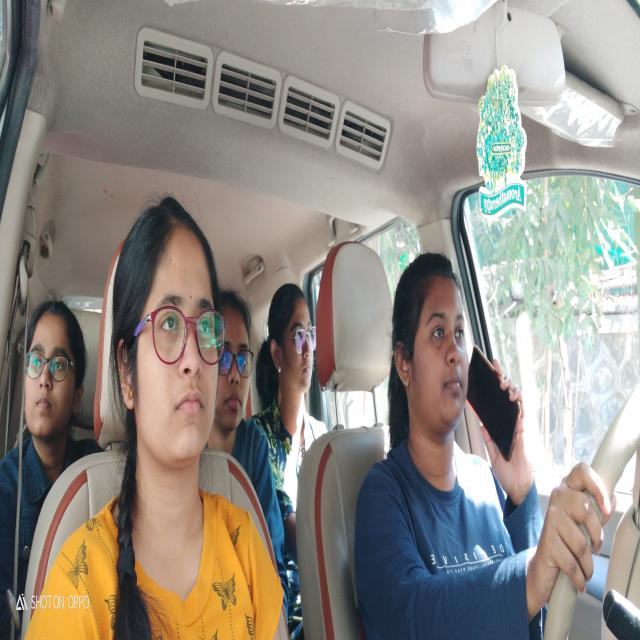mobile: (462, 344, 534, 468)
person: (109, 180, 232, 510), (390, 240, 476, 478), (22, 274, 92, 452), (264, 262, 322, 447), (218, 262, 257, 443)
